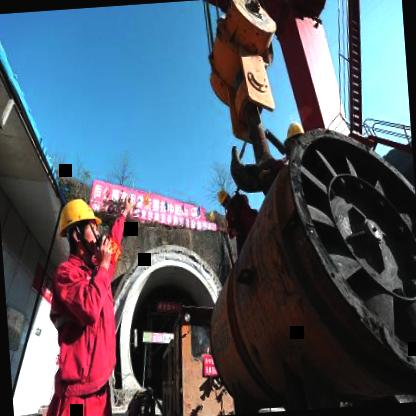helmet: (53, 192, 104, 265), (283, 119, 308, 158), (216, 186, 233, 210)
